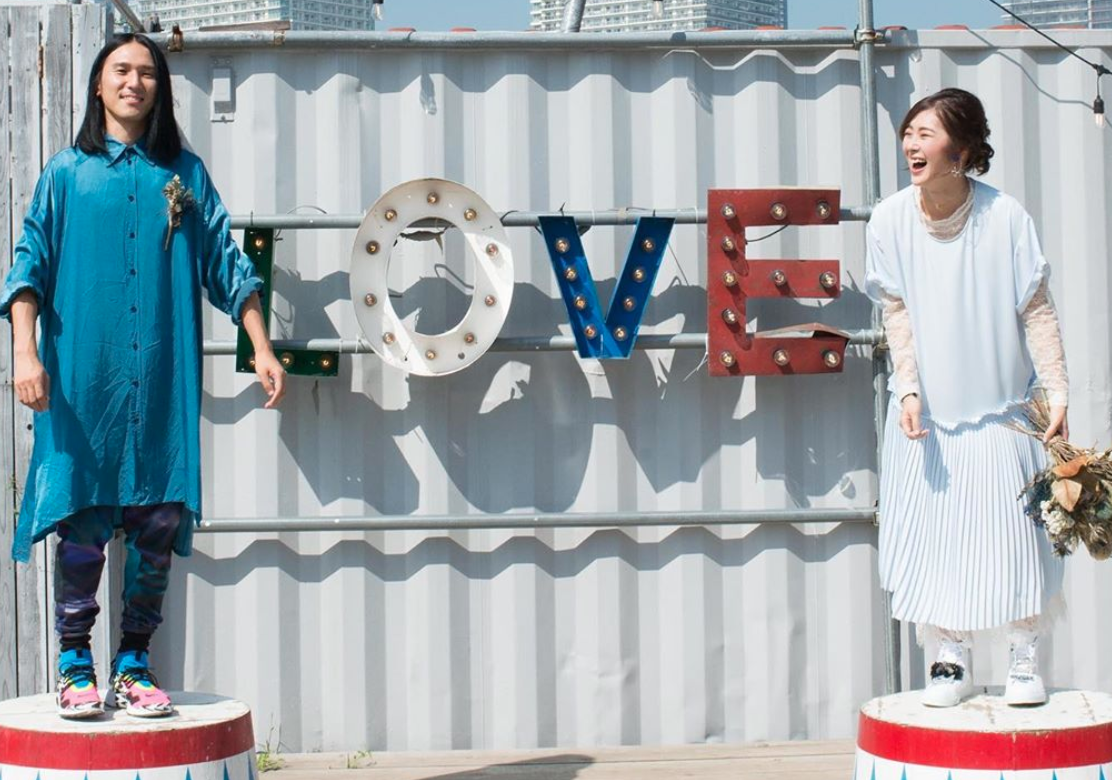Good: (4, 29, 1093, 727)
